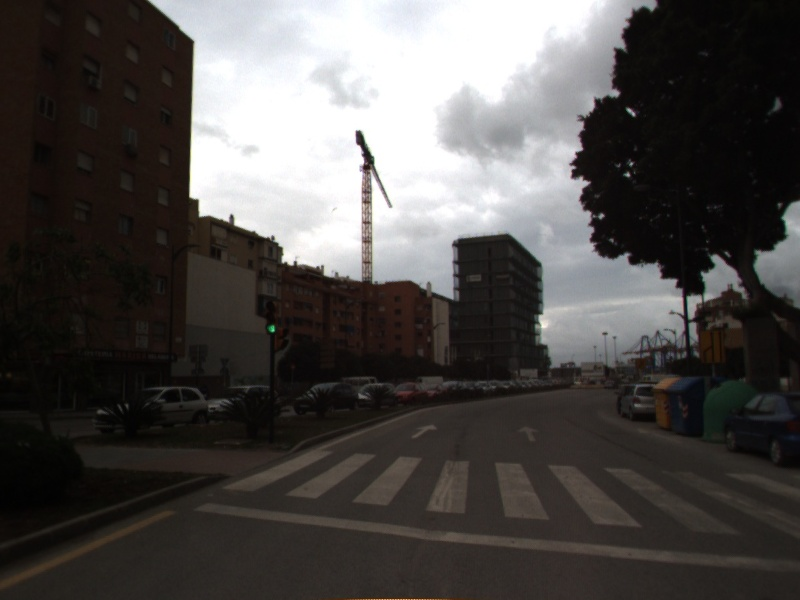STRAIGHT: (515, 423, 542, 444), (409, 423, 439, 440)
